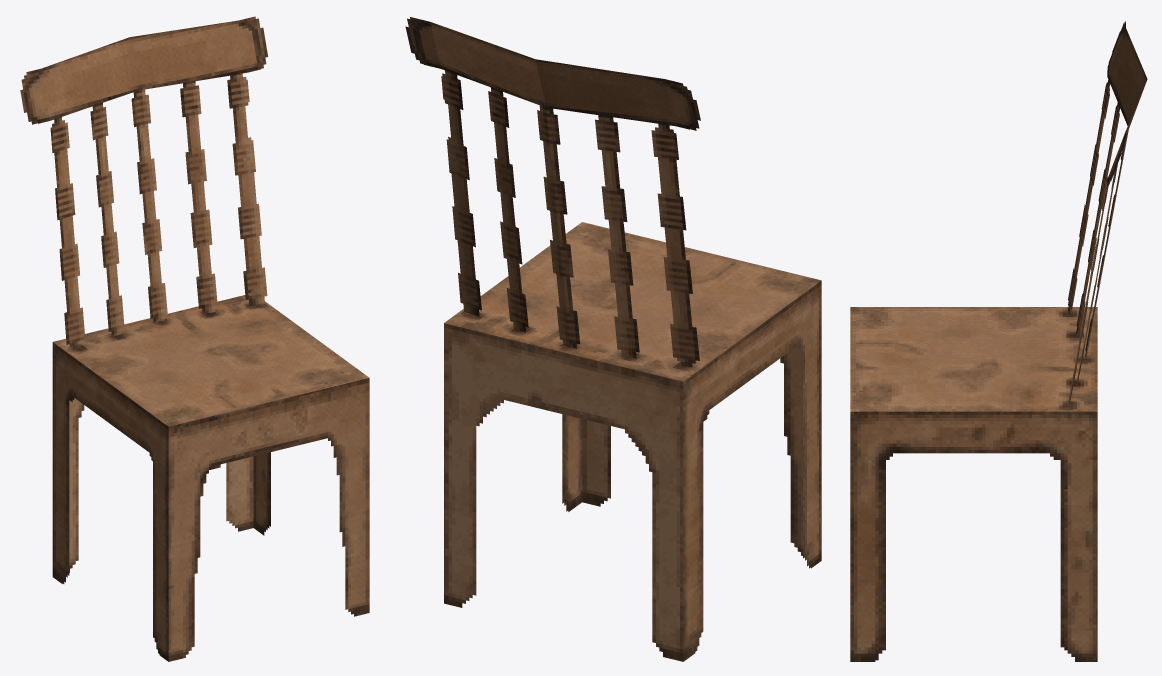
Rendered from psx_chair.glb.
3 renders of one model, left to right at view 1: azimuth 30°, elevation 25°; view 2: azimuth 150°, elevation 25°; view 3: azimuth 270°, elevation 25°, orthographic. The views are drawn at different scales.
Visible parts, largest first — view 1: SM_Chair_0; view 2: SM_Chair_0; view 3: SM_Chair_0.
Part boxes in pixels (box(x1,y1,x2,y2)): SM_Chair_0: box(20, 16, 369, 661); SM_Chair_0: box(405, 17, 821, 661); SM_Chair_0: box(850, 21, 1147, 661).
Bounding box in the file's own units: 0.5609 × 1.06 × 0.5404.
Materials: 1 (1 with a texture image).
